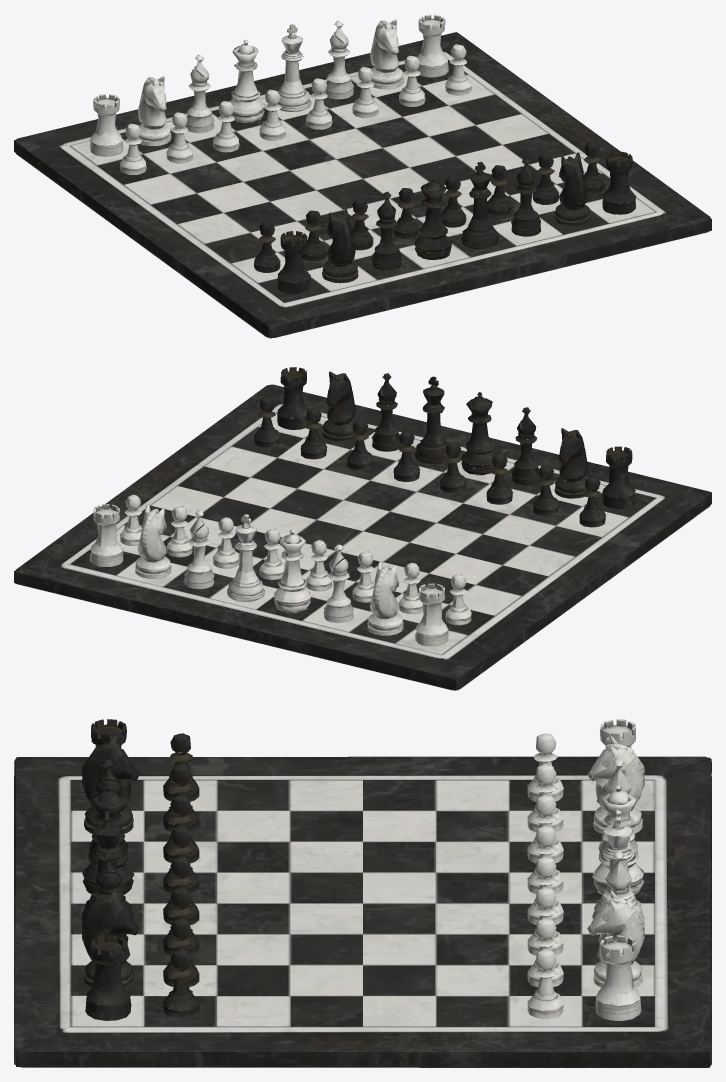
Rendered from chess_set.glb.
3 views of the same model, one above another, from view 1: azimuth 30°, elevation 25°; view 2: azimuth 150°, elevation 25°; view 3: azimuth 270°, elevation 25° (orthographic). The views are drawn at different scales.
Visible parts, largest first — view 1: piece_rook_white_01; view 2: piece_rook_white_01; view 3: piece_rook_white_01.
Boxes of the visible parts, box(x1,y1,x2,y2) form: piece_rook_white_01: box(14, 14, 711, 338); piece_rook_white_01: box(14, 367, 711, 690); piece_rook_white_01: box(14, 719, 711, 1067).
Bounding box in the file's own units: 0.5535 × 0.1121 × 0.5535.
3 materials, 3 textured.
